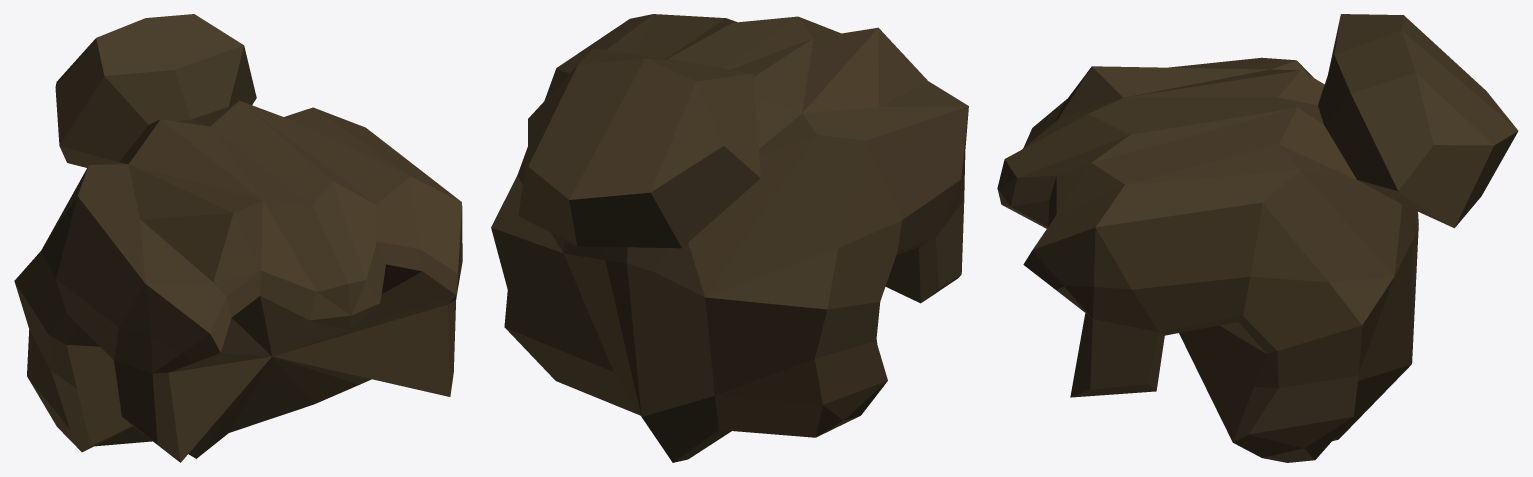
Rendered from Chr_Hair_19_Static.fbx.
The picture shows the model from 3 angles, left to right: view 1: azimuth 30°, elevation 25°; view 2: azimuth 150°, elevation 25°; view 3: azimuth 270°, elevation 25°; orthographic projection. The views are drawn at different scales.
Visible parts, largest first — view 1: Chr_Hair_19_Static; view 2: Chr_Hair_19_Static; view 3: Chr_Hair_19_Static.
Part boxes in pixels (box(x1,y1,x2,y2)): Chr_Hair_19_Static: box(14, 14, 462, 462); Chr_Hair_19_Static: box(491, 14, 968, 462); Chr_Hair_19_Static: box(997, 14, 1518, 462).
Bounding box in the file's own units: 0.254 × 0.2939 × 0.3351.
